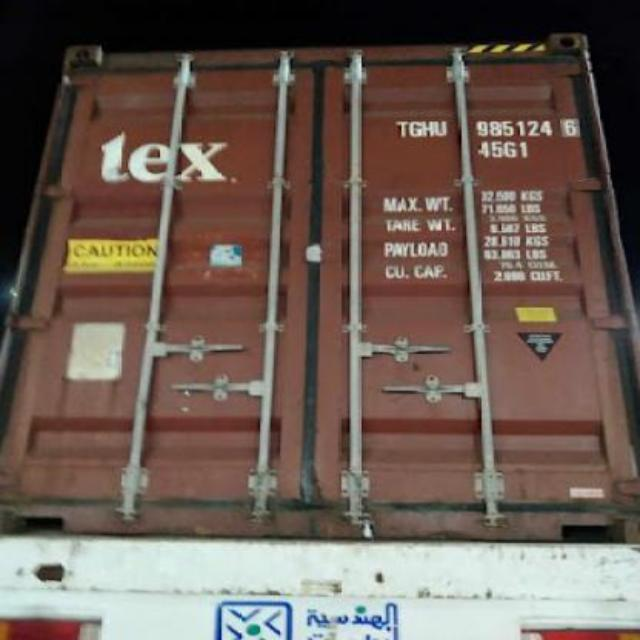1: (516, 118, 528, 138)
2: (526, 119, 542, 137)
4: (538, 118, 554, 138)
5: (502, 120, 516, 136)
6: (564, 119, 578, 137)
8: (490, 120, 502, 136)
9: (474, 120, 490, 136)
G: (408, 118, 422, 138)
H: (420, 118, 436, 140)
T: (394, 118, 410, 138)
U: (436, 118, 448, 138)
